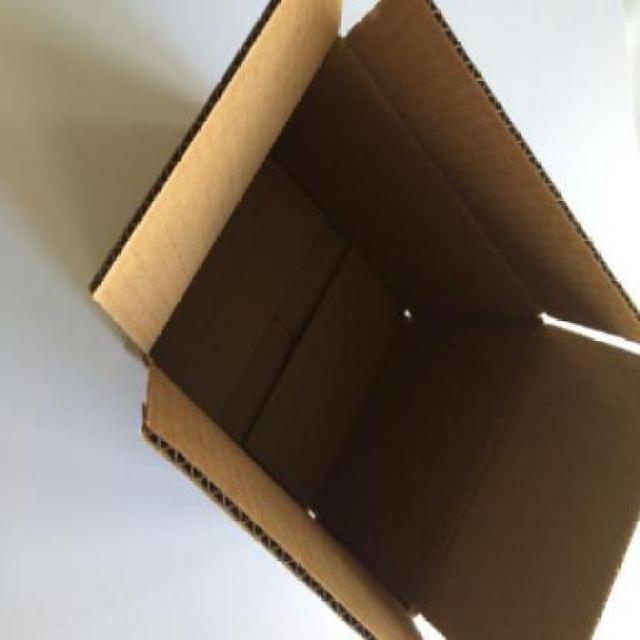box: (94, 2, 638, 639)
